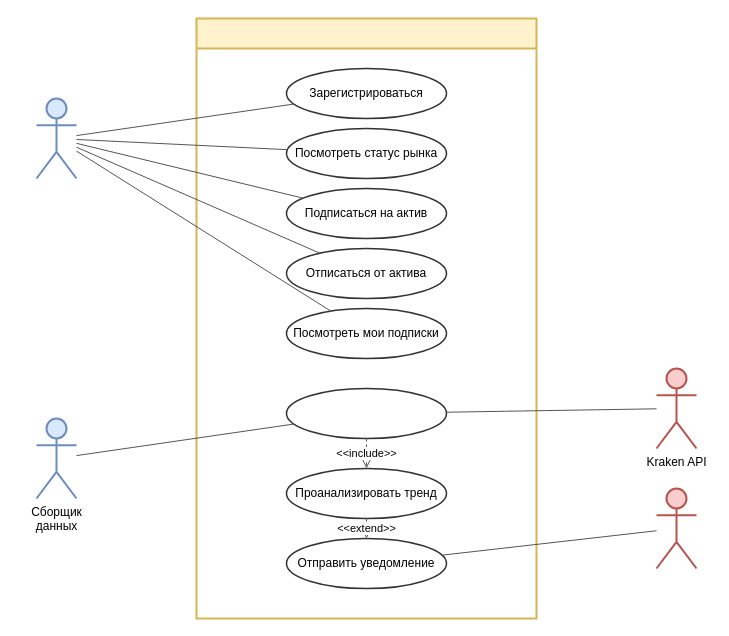
This 729x636 diagram has some shape labels left out. The box of each missing label's shape, as (x1, y1, x2, y2) in pixels:
Crypto Monitoring Bot System: (195, 17, 537, 619)
Telegram API: (655, 487, 697, 569)
Получить котировки: (285, 387, 447, 439)
Пользователь Telegram: (35, 97, 77, 179)
